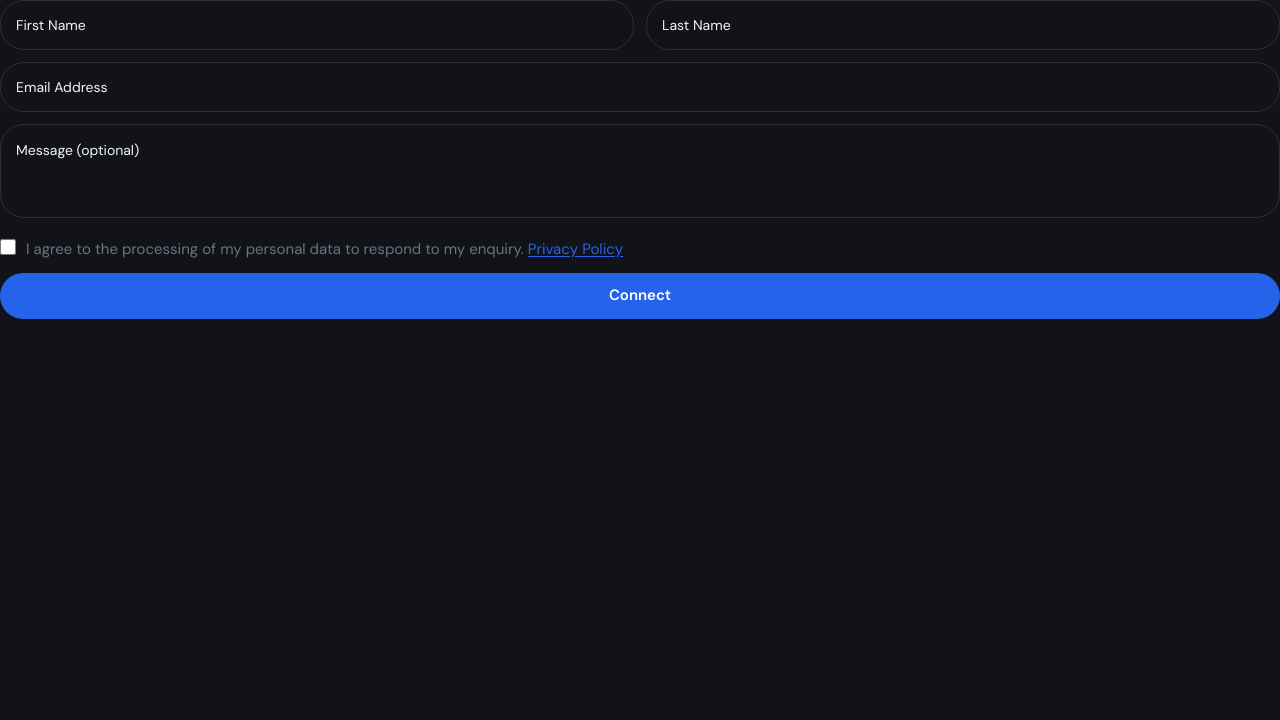
ConnectForm › opens a text-mode privacy policy in a dialog from the consent label
Step 1. Click the button "Privacy Policy" → click(575, 249), box top-left (528, 237), bottom-right (623, 261)
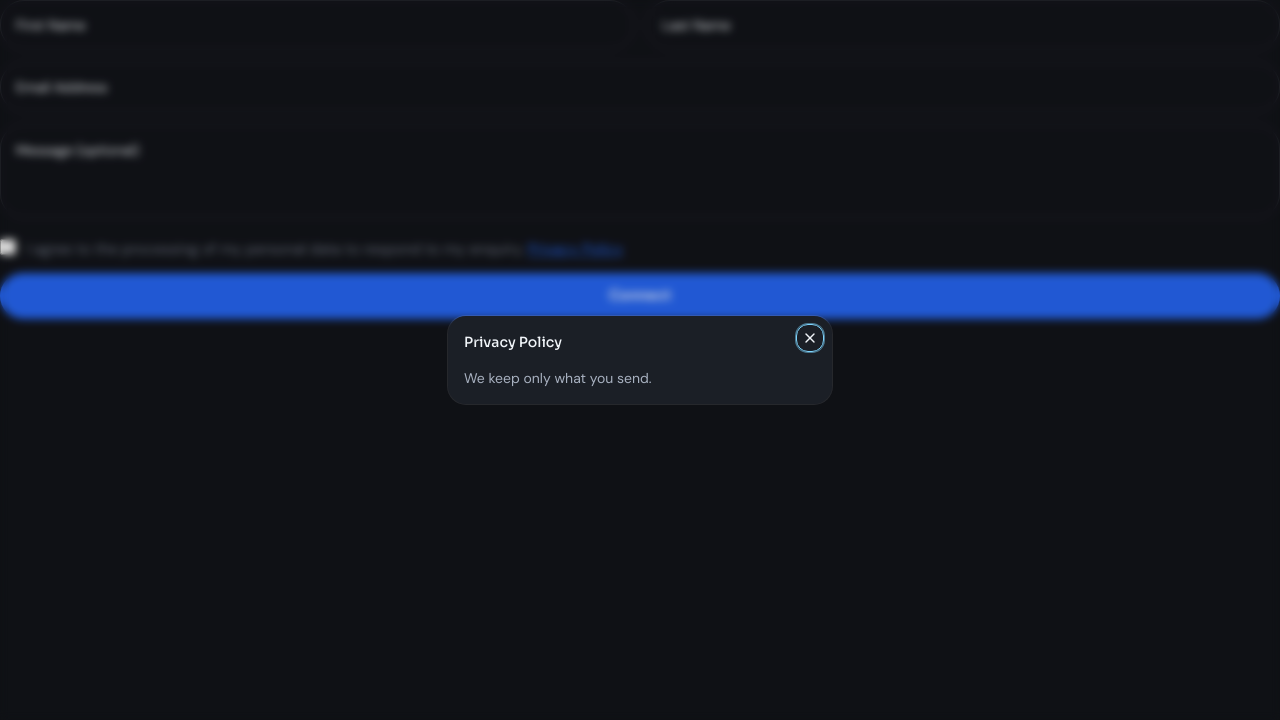
expect the text "We keep only what you send." is shown: met, box top-left (464, 369), bottom-right (652, 387)
